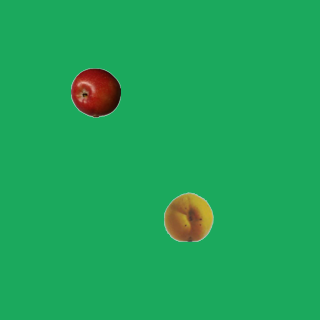Apple Braeburn: (70, 67, 120, 117)
Peach 2: (163, 191, 213, 241)
